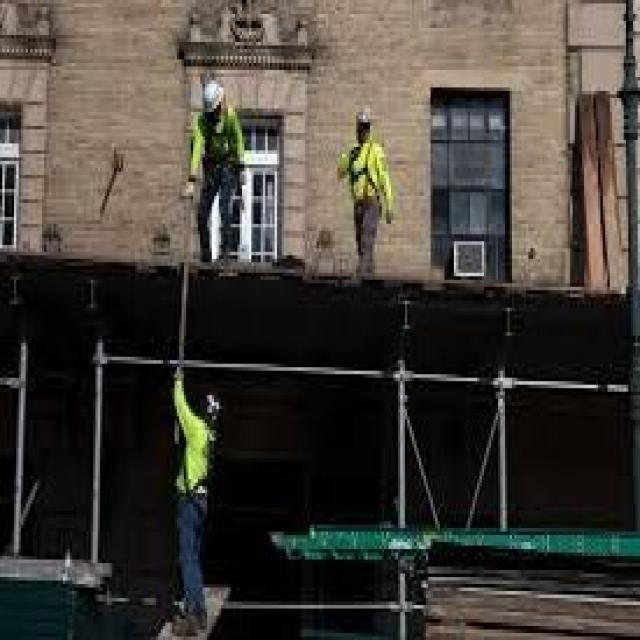Reflective-Jacket: (156, 381, 230, 518), (338, 136, 400, 224), (184, 108, 251, 189)
Safety-Helmet: (196, 70, 230, 119), (349, 102, 377, 136)
